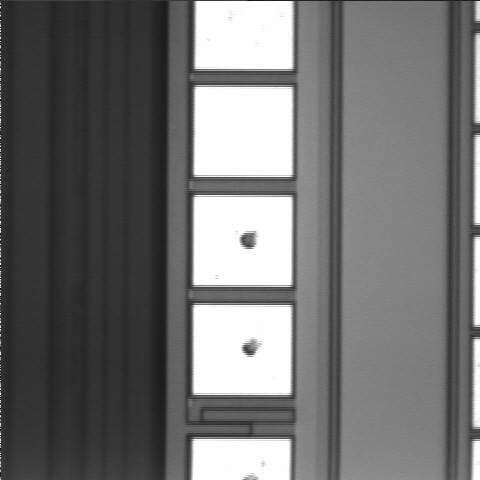pad: (194, 87, 292, 177), (193, 305, 291, 395), (194, 197, 292, 285)
